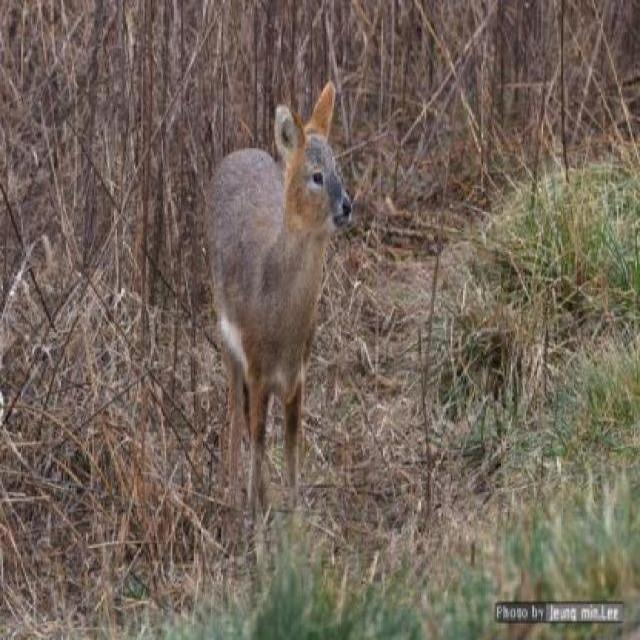deer: (175, 59, 352, 526)
